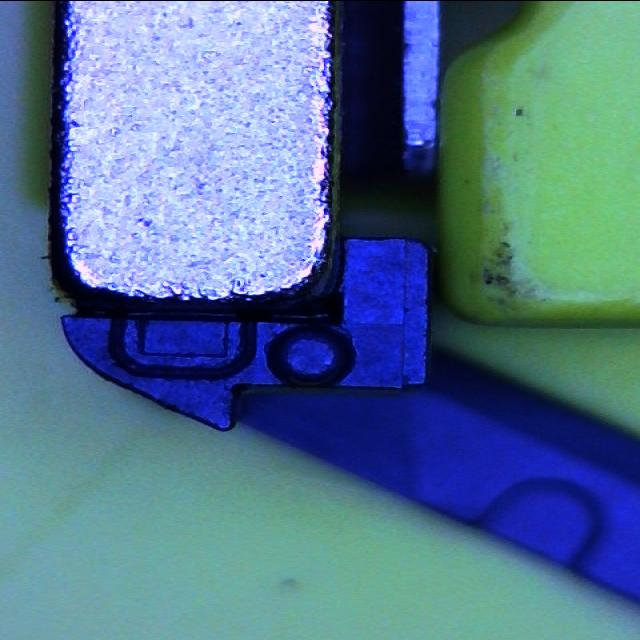lacking: (105, 308, 258, 380)
